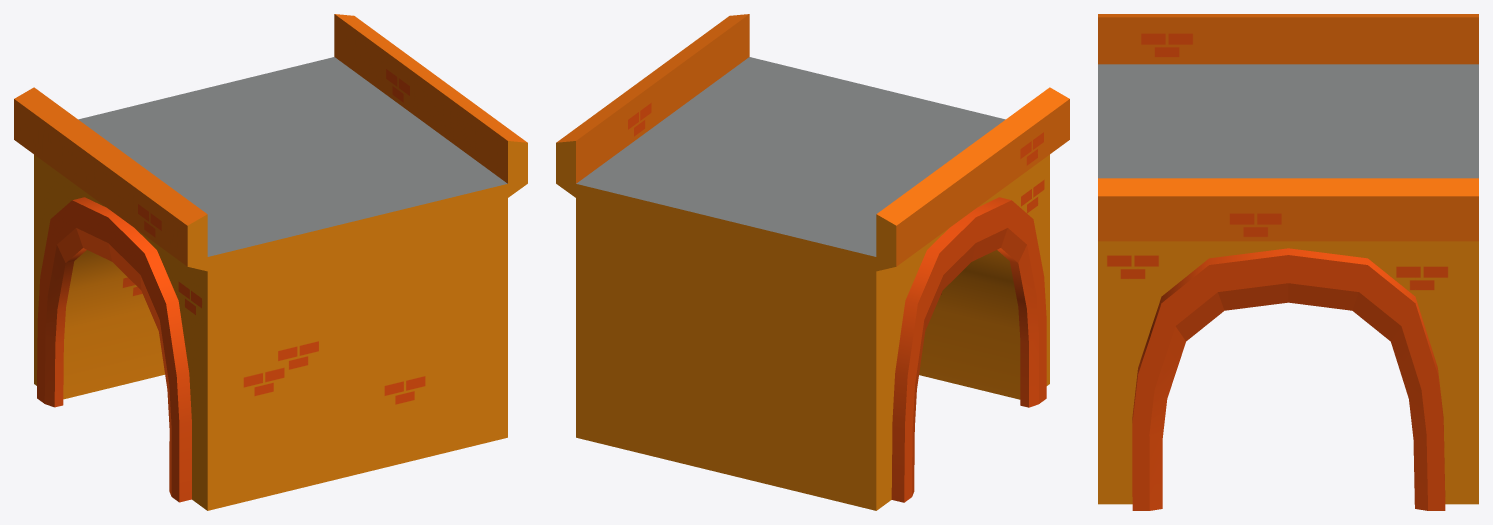
File: Bridge1Arch1.fbx
The picture shows the model from 3 angles, left to right: view 1: azimuth 30°, elevation 25°; view 2: azimuth 150°, elevation 25°; view 3: azimuth 270°, elevation 25°; orthographic projection. The views are drawn at different scales.
Parts seen in each view (by area): view 1: Bridge1Arch1; view 2: Bridge1Arch1; view 3: Bridge1Arch1.
Part boxes in pixels (<box>): Bridge1Arch1: <box>14,14,527,510</box>; Bridge1Arch1: <box>556,14,1069,510</box>; Bridge1Arch1: <box>1098,14,1478,510</box>.
Bounding box in the file's own units: 13.6 × 11.33 × 12.
